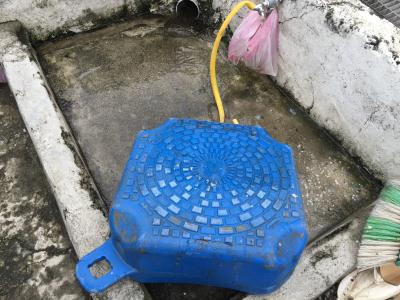box: (106, 114, 311, 297)
plastic_bag: (224, 4, 282, 78)
